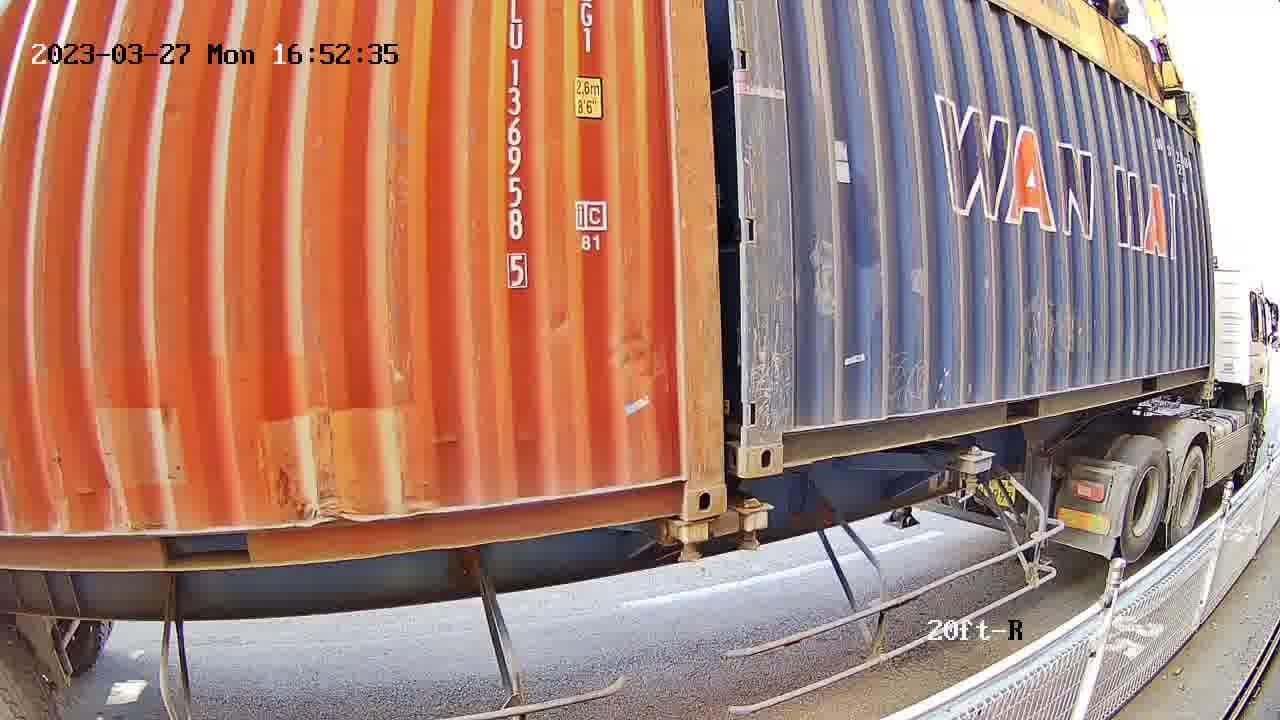Cone: (737, 497, 774, 552), (672, 521, 710, 562)
Hole_L: (742, 404, 810, 480)
Hole_R: (647, 451, 725, 519)
Tire: (1121, 442, 1170, 558), (1169, 448, 1206, 545)
